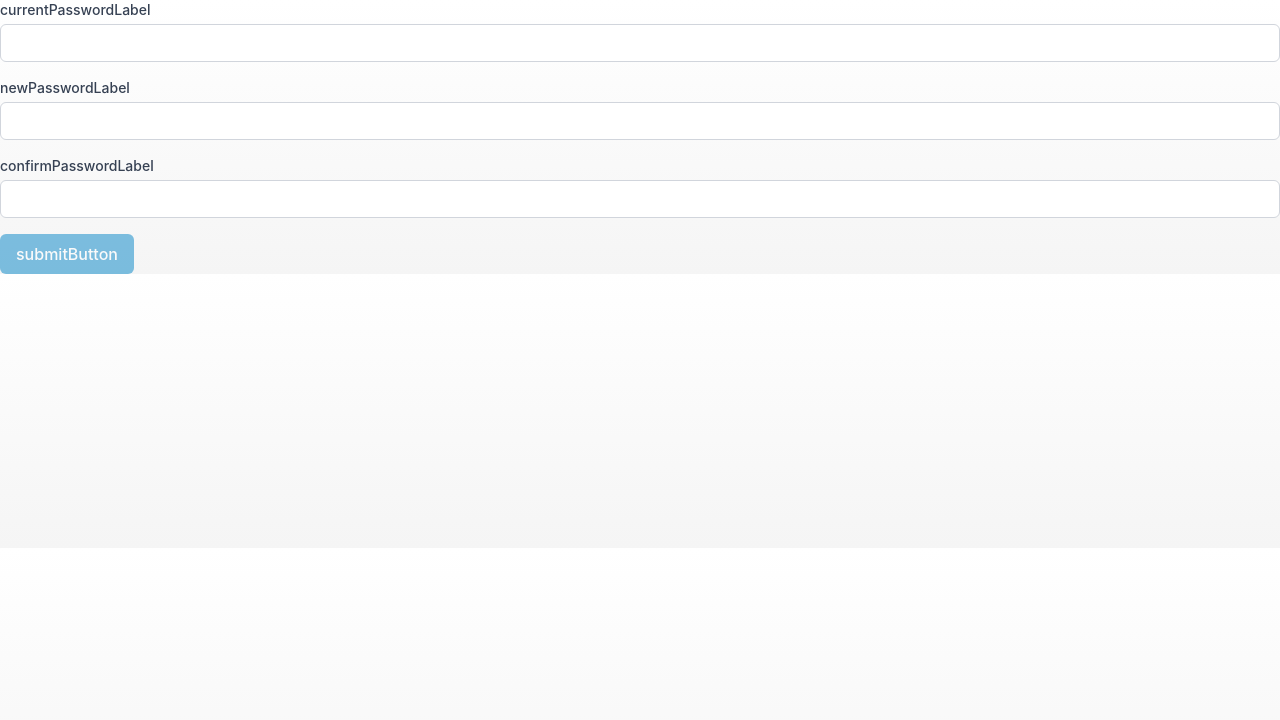
Test: ChangePasswordForm › validates new password minimum length
The image size is (1280, 720).
Type "OldPass123" into the password field labelled "currentPasswordLabel".
click(640, 43); type("OldPass123")  # box [0,24,1279,62]
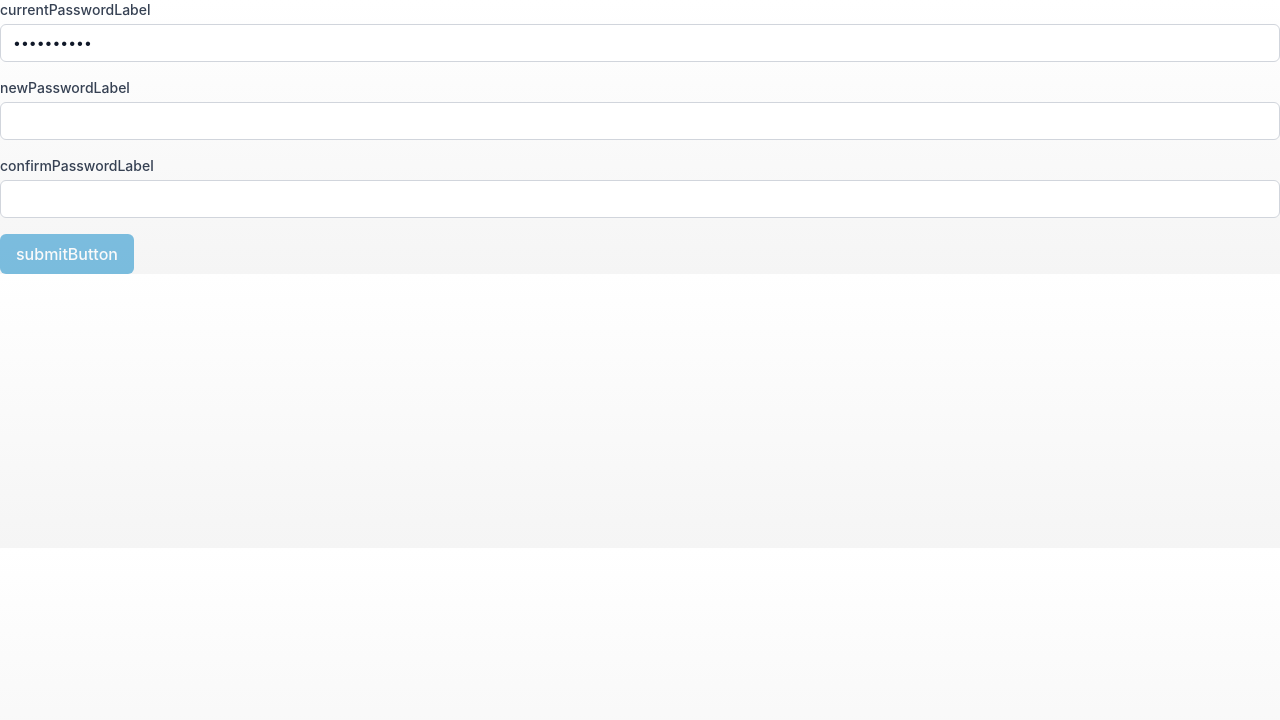
Type "short" into the password field labelled "newPasswordLabel".
click(640, 121); type("short")  # box [0,102,1279,140]
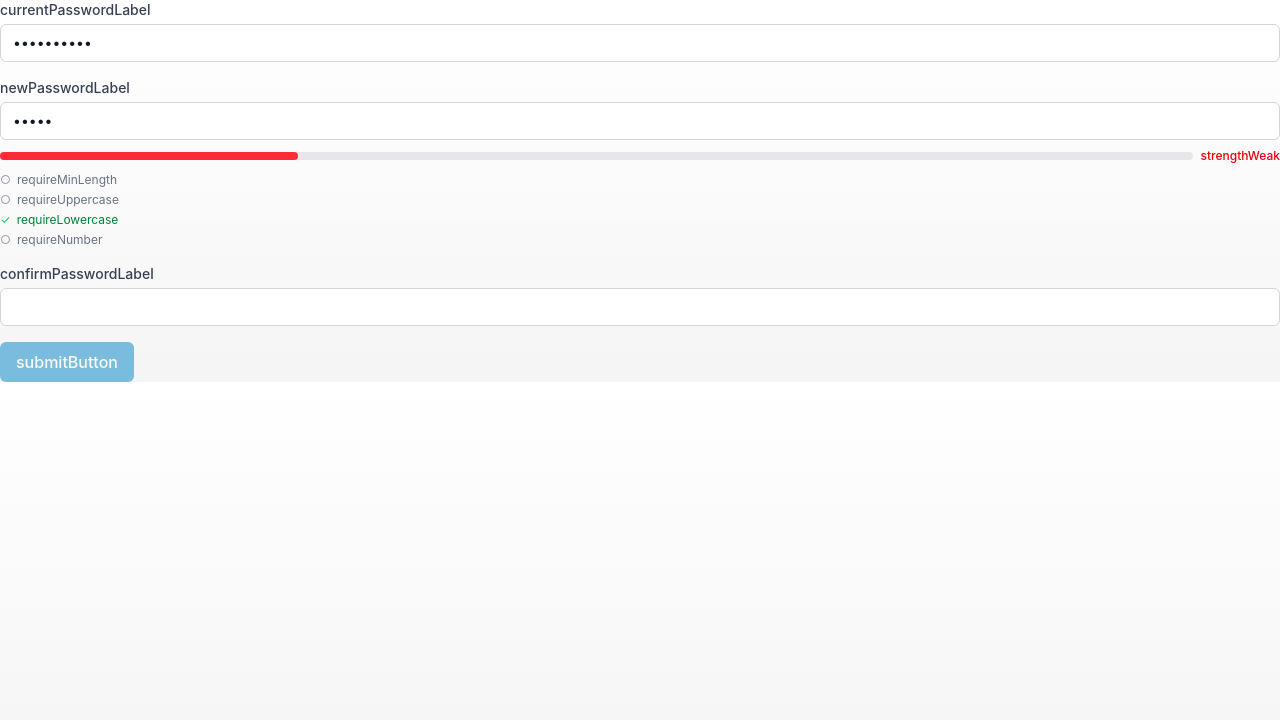
Type "short" into the password field labelled "confirmPasswordLabel".
click(640, 307); type("short")  # box [0,288,1279,326]
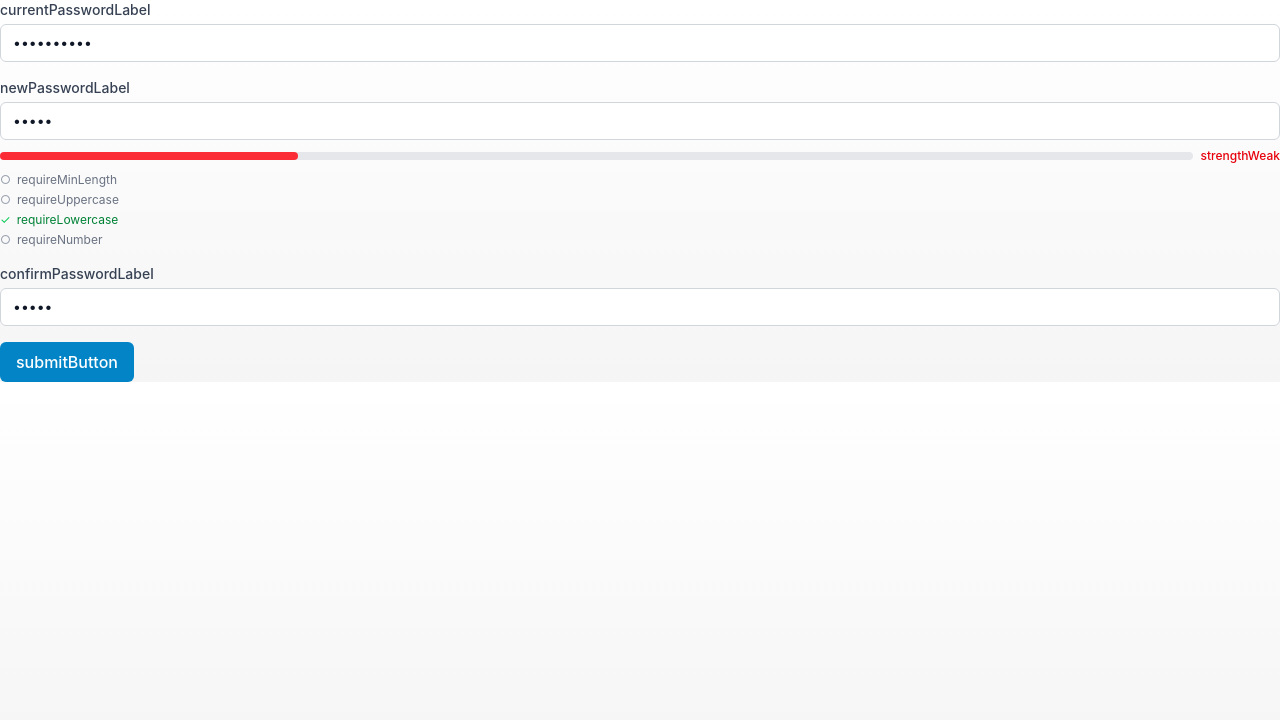
Click the button with test id "change-password-submit".
click(67, 362)  # box [0,342,134,382]
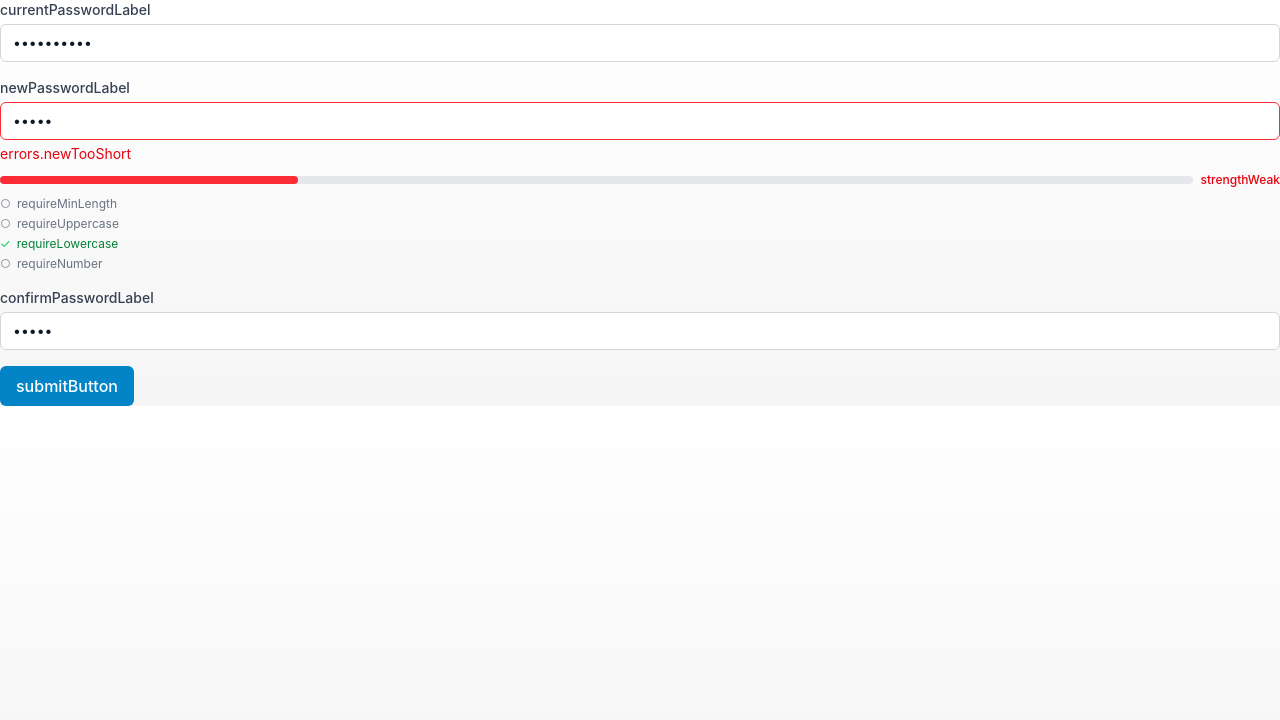
Result: the text "errors.newTooShort" is shown at [0,145,131,162]
